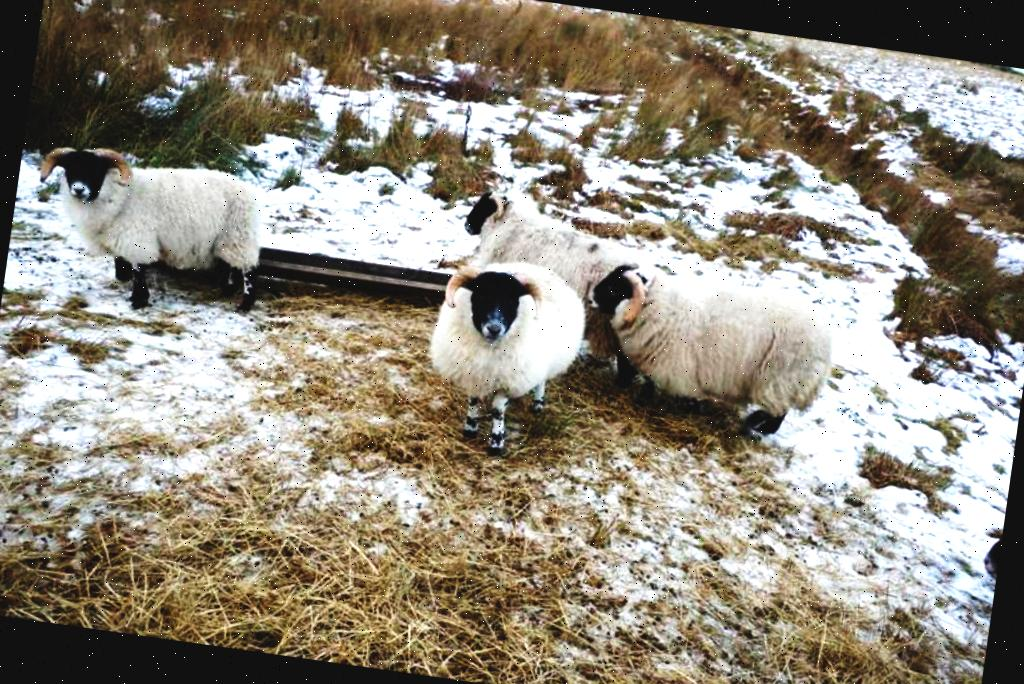Sheep: (572, 256, 848, 455), (23, 125, 272, 323), (443, 187, 672, 371), (420, 252, 594, 462)
